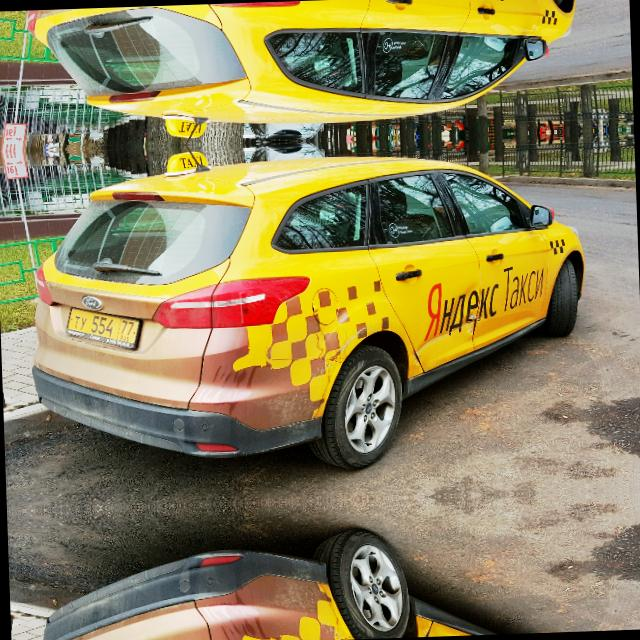taxi: (56, 298, 150, 359)
